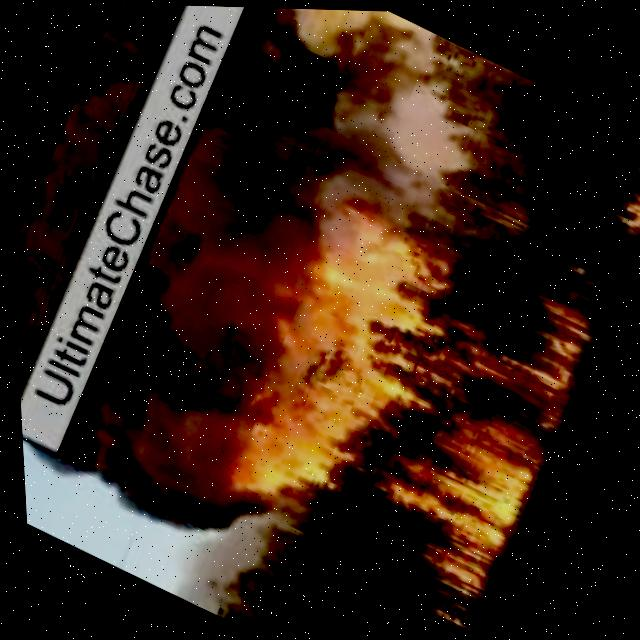Fire: (203, 174, 611, 603), (614, 148, 640, 231)
Smoke: (13, 0, 514, 600), (0, 0, 233, 439)
